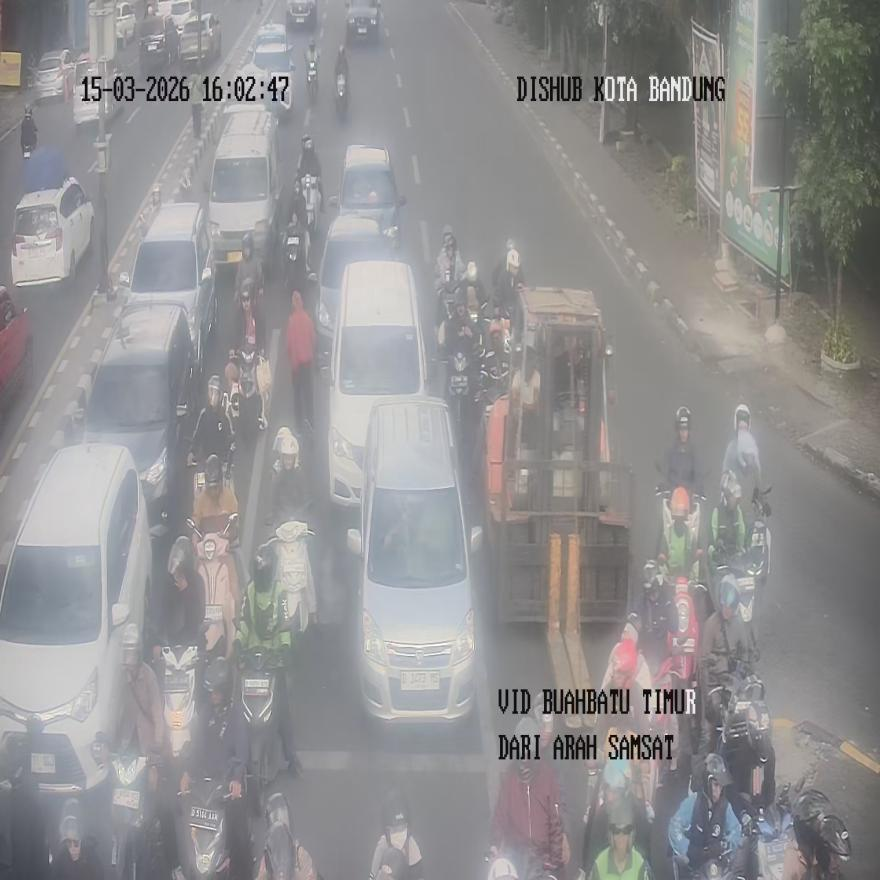Motor: (0, 442, 152, 797), (484, 288, 632, 624), (347, 398, 480, 724), (80, 302, 197, 536), (322, 261, 428, 508), (124, 200, 215, 371), (205, 105, 280, 279), (316, 215, 399, 367), (10, 176, 94, 285), (329, 144, 406, 249)
Truk: (646, 571, 703, 776), (186, 514, 241, 663), (718, 673, 773, 811), (107, 746, 163, 879), (240, 650, 279, 815), (159, 637, 200, 773), (285, 175, 321, 289), (226, 346, 272, 434), (21, 105, 37, 158), (335, 72, 347, 117), (307, 54, 318, 102)
